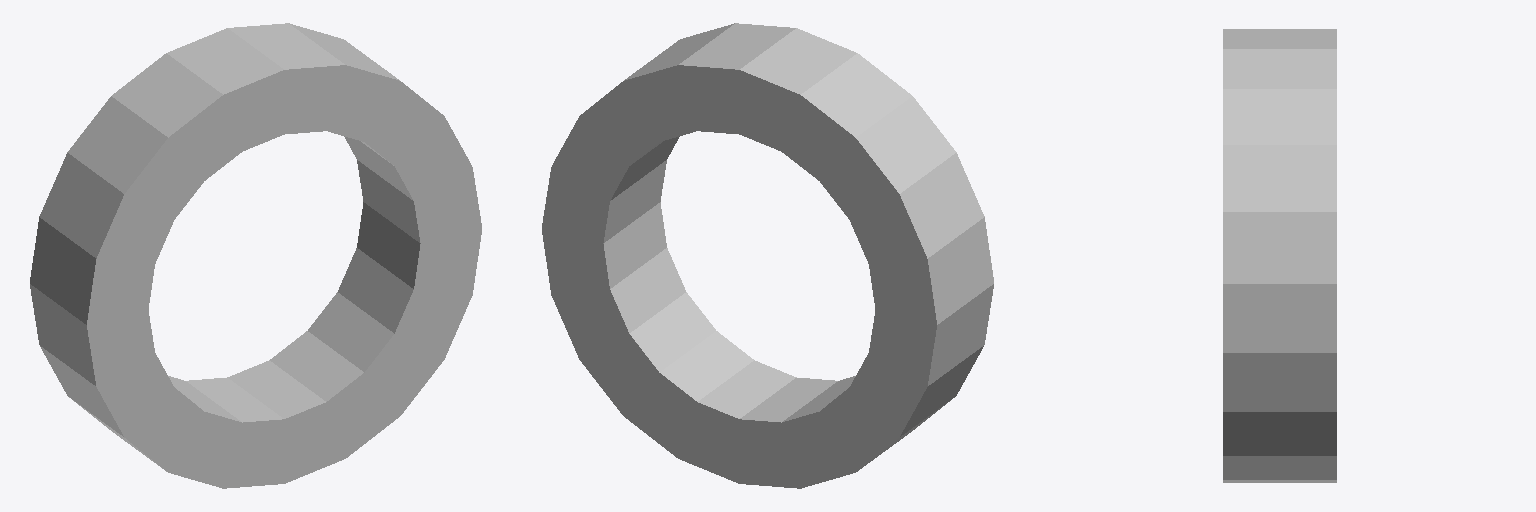
Rendered from Cement-Grower04.obj.
The picture shows the model from 3 angles: view 1: azimuth 30°, elevation 25°; view 2: azimuth 150°, elevation 25°; view 3: azimuth 270°, elevation 25°; orthographic projection.
Visible parts, largest first — view 1: obj_0; view 2: obj_0; view 3: obj_0.
Part boxes in pixels (left/top/right/bottom): obj_0: left=30, top=23, right=481, bottom=488; obj_0: left=542, top=23, right=993, bottom=488; obj_0: left=1223, top=29, right=1336, bottom=482.
Bounding box in the file's own units: 11.03 × 11.03 × 2.76.